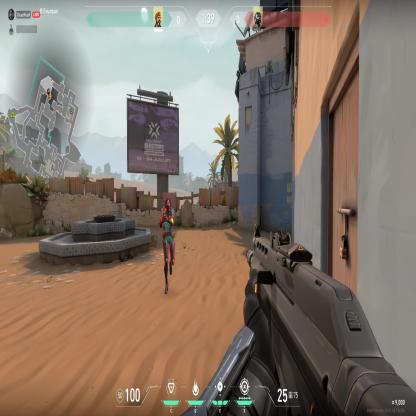enemy: (158, 195, 176, 294)
